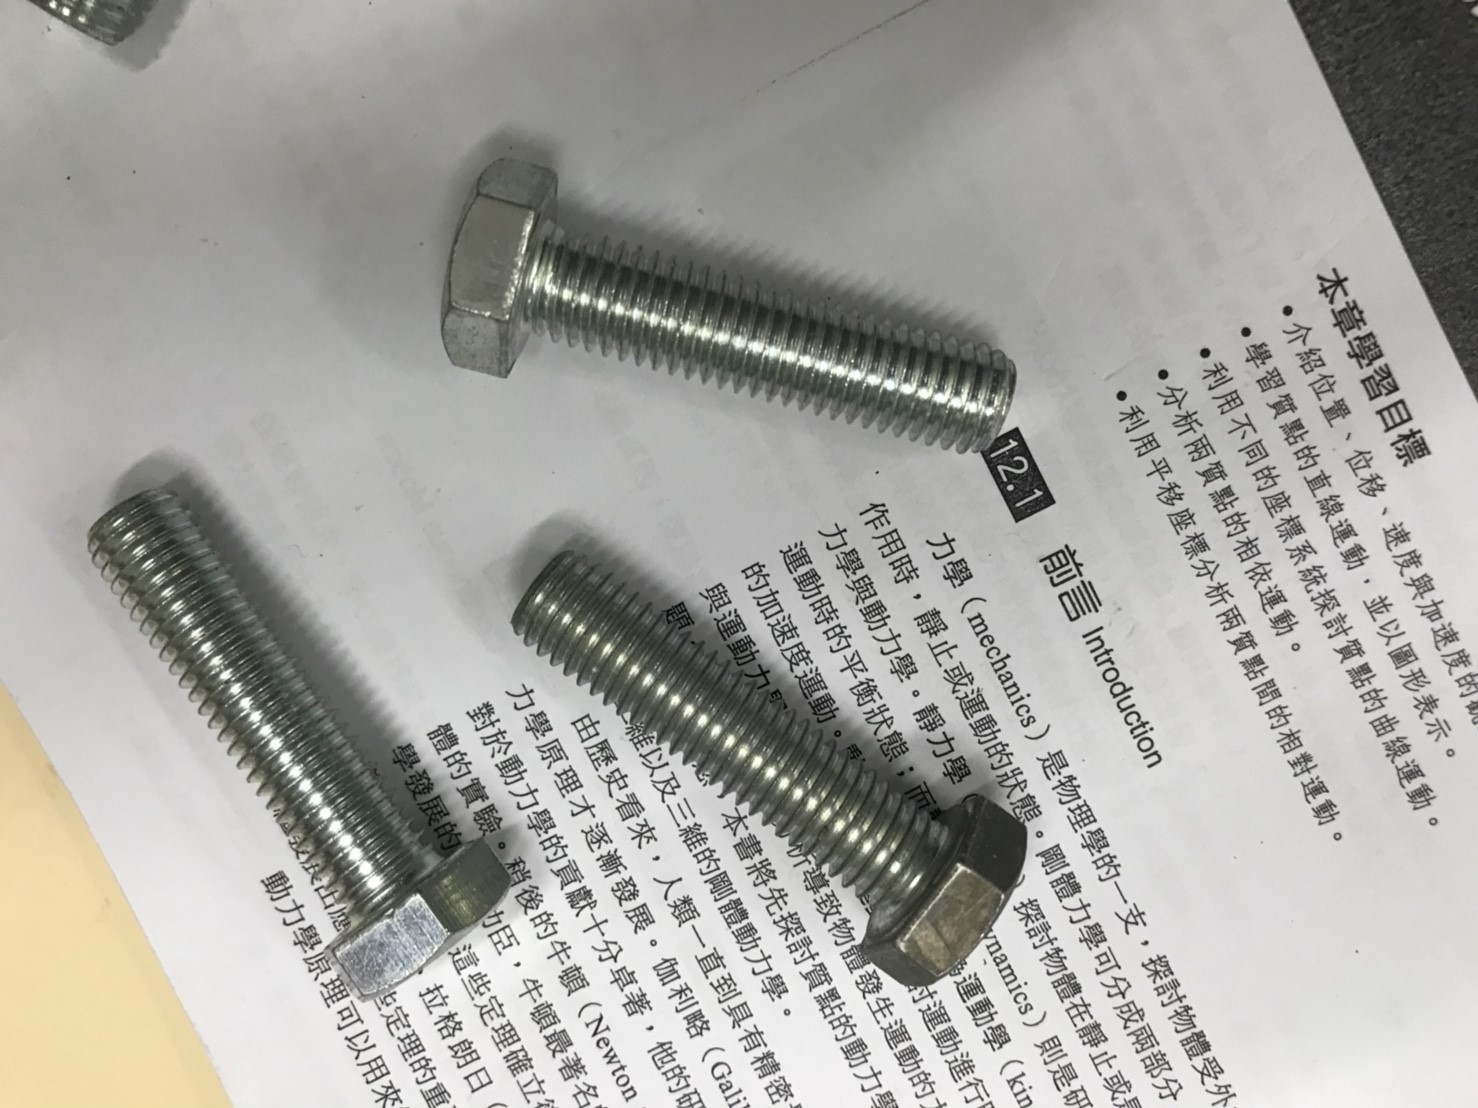screw: (496, 537, 1040, 990), (67, 480, 514, 1002), (422, 150, 1039, 452)
